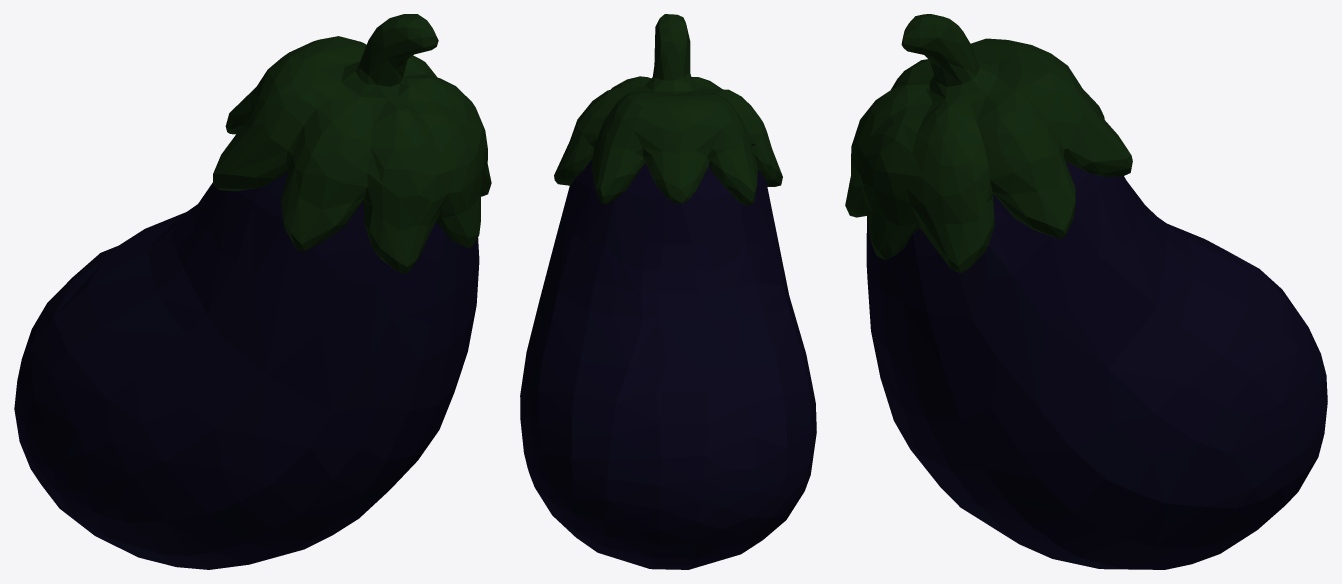
File: eggplant_lowpoly.obj
3 views of the same model, side by side, from view 1: azimuth 30°, elevation 25°; view 2: azimuth 150°, elevation 25°; view 3: azimuth 270°, elevation 25° (orthographic). The views are drawn at different scales.
Visible parts, largest first — view 1: Mesh1.002; view 2: Mesh1.002; view 3: Mesh1.002.
Part boxes in pixels (x1,y1,x2,y2): Mesh1.002: [14, 14, 491, 569]; Mesh1.002: [520, 14, 816, 569]; Mesh1.002: [845, 14, 1327, 569].
Bounding box in the file's own units: 0.6208 × 0.9538 × 0.7151.
